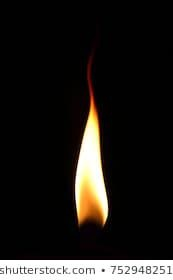fire: (72, 39, 107, 224)
